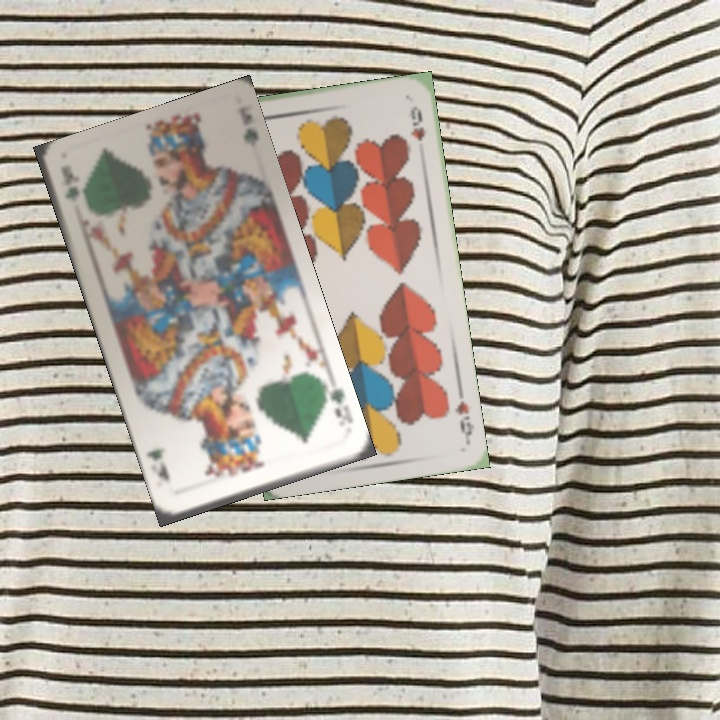GK: (320, 381, 356, 426), (57, 161, 82, 205)
H9: (451, 397, 476, 444)
